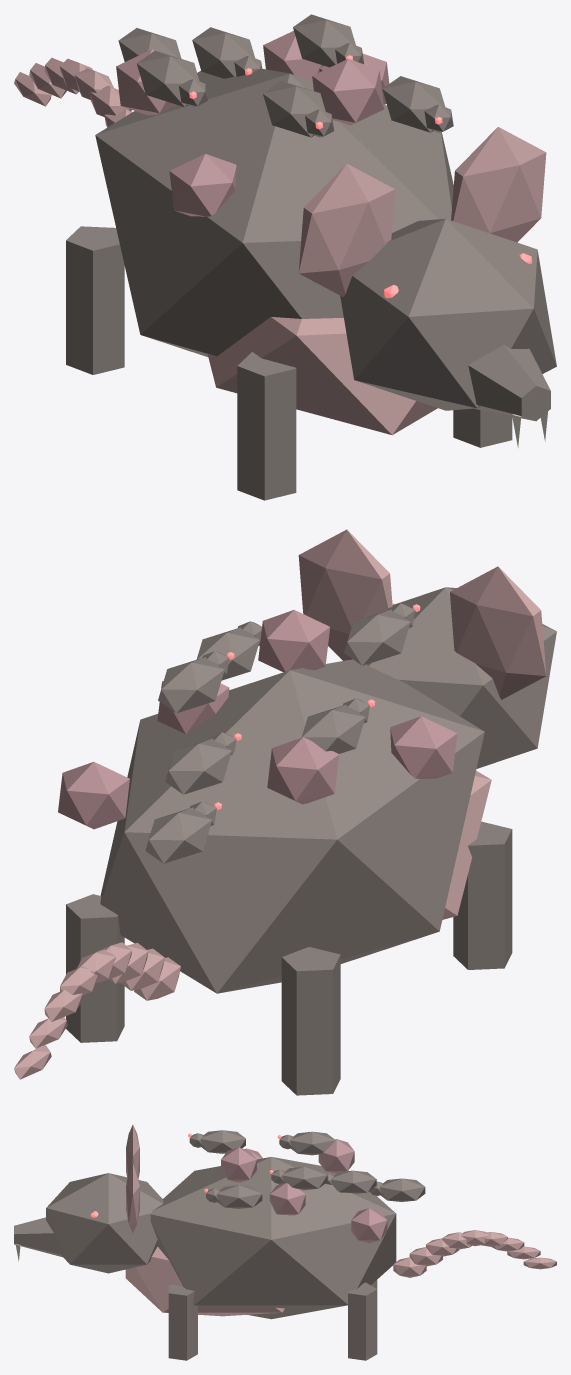
File: rat_mother.glb
3 views of the same model, one above another, from view 1: azimuth 30°, elevation 25°; view 2: azimuth 150°, elevation 25°; view 3: azimuth 270°, elevation 25° (orthographic). The views are drawn at different scales.
Parts seen in each view (by area): view 1: rat_mother; view 2: rat_mother; view 3: rat_mother.
Part boxes in pixels (<box>): rat_mother: <box>14,14,556,500</box>; rat_mother: <box>14,529,556,1095</box>; rat_mother: <box>14,1125,556,1360</box>.
Bounding box in the file's own units: 1.11 × 1.26 × 3.33.
